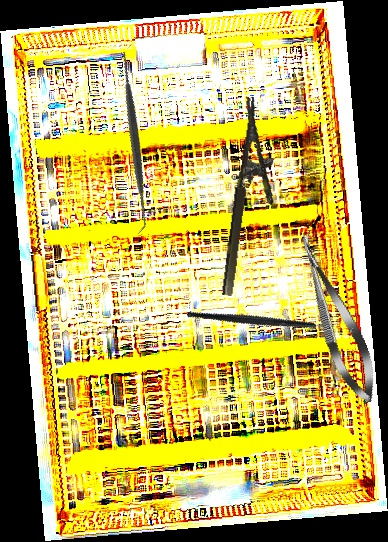Chopper: (186, 258, 343, 378)
Micro Scissor: (286, 225, 386, 410)
Needle Holder: (219, 97, 287, 300)
Spatula Surgical: (39, 44, 230, 235)
